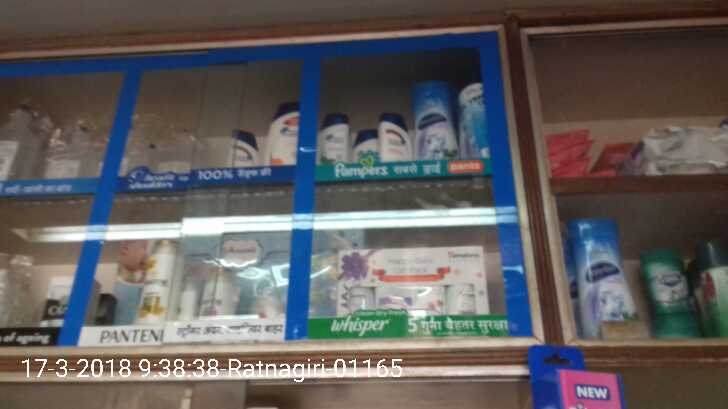beauty: (138, 224, 177, 335), (260, 89, 301, 169), (375, 109, 411, 168), (319, 110, 351, 167)
